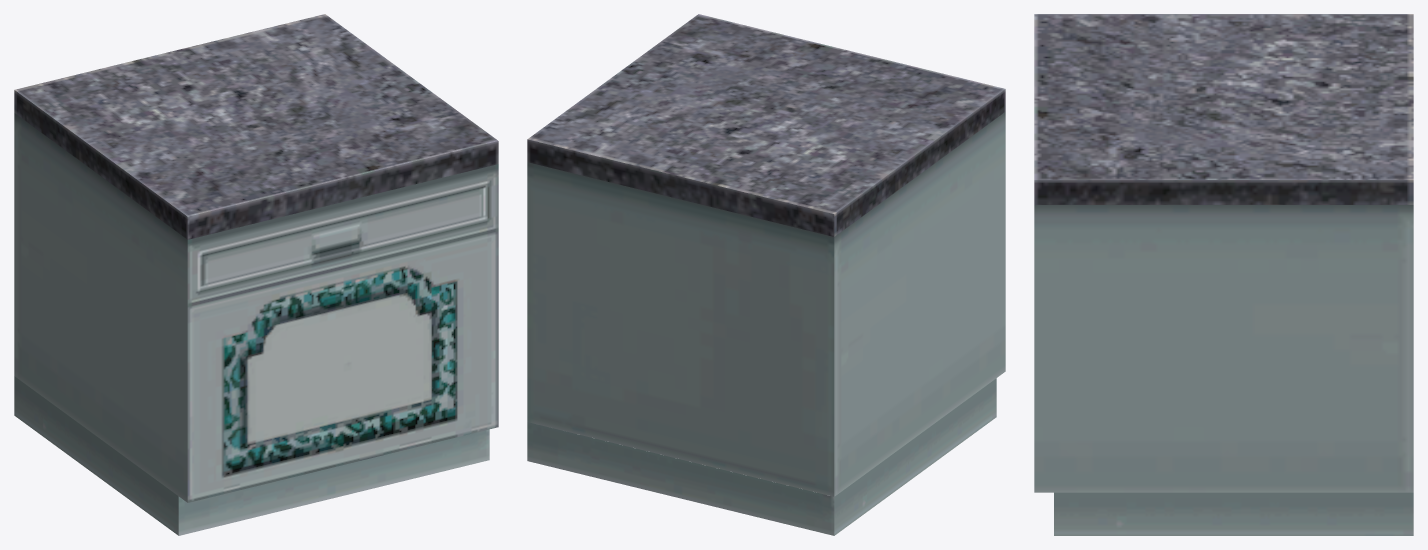
Rendered from furni_0200087_03.FBX.
3 renders of one model, left to right at view 1: azimuth 30°, elevation 25°; view 2: azimuth 150°, elevation 25°; view 3: azimuth 270°, elevation 25°, orthographic. The views are drawn at different scales.
Visible parts, largest first — view 1: furni_0200087_03; view 2: furni_0200087_03; view 3: furni_0200087_03.
Part boxes in pixels (x1=…): furni_0200087_03: x1=14, y1=14, x2=498, y2=535; furni_0200087_03: x1=527, y1=14, x2=1005, y2=535; furni_0200087_03: x1=1034, y1=14, x2=1413, y2=535.
Size of the model in its own units: 79.88 by 80 by 77.2.
Materials: 1 (1 with a texture image).
